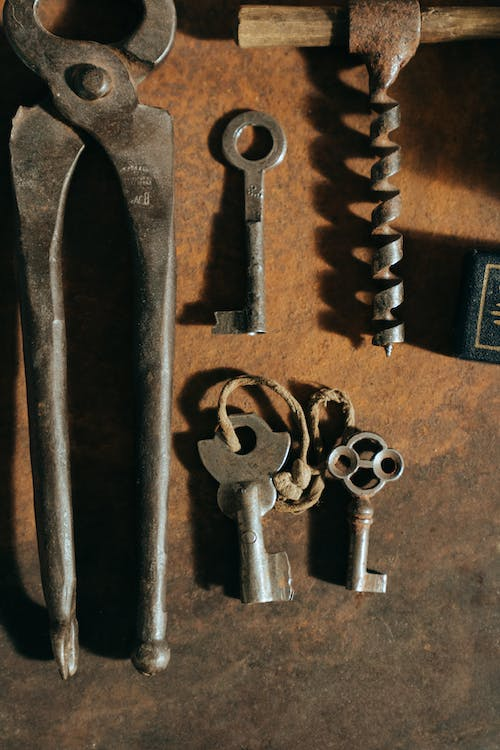key: (195, 412, 295, 608), (209, 108, 287, 335), (326, 432, 406, 596)
